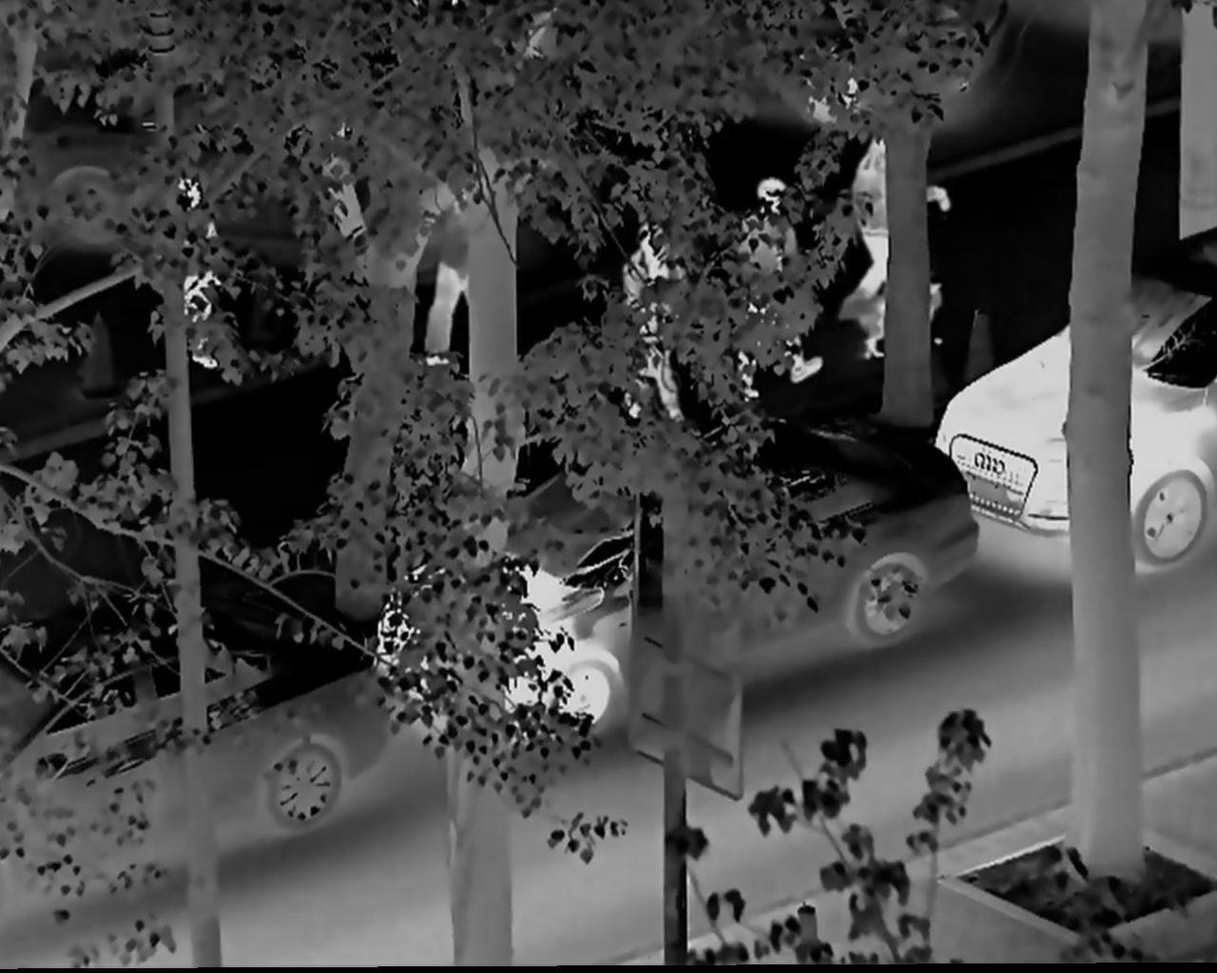person: (603, 198, 703, 432), (849, 117, 930, 344), (736, 180, 816, 407), (155, 179, 227, 372)
